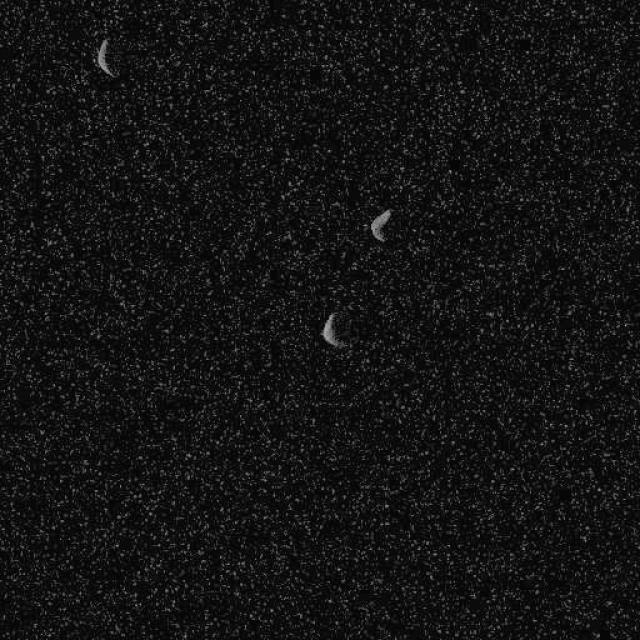D2: (320, 310, 346, 349), (95, 38, 119, 78), (368, 208, 392, 242)
